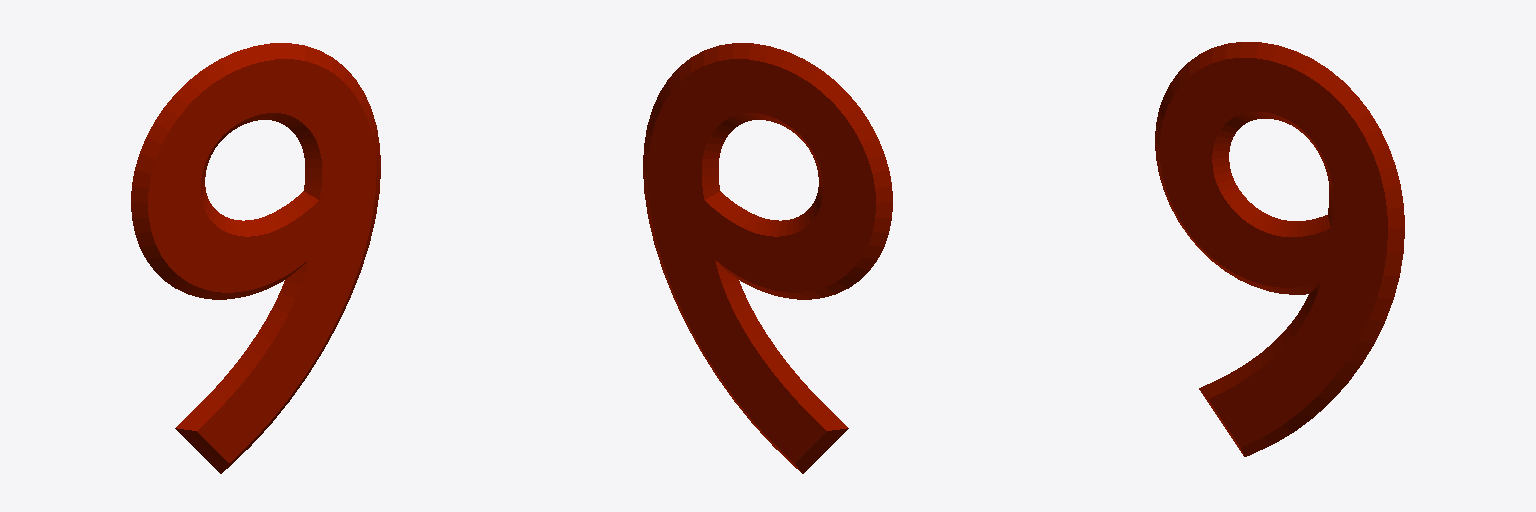
Rendered from nine.obj.
3 views of the same model, side by side, from view 1: azimuth 30°, elevation 25°; view 2: azimuth 150°, elevation 25°; view 3: azimuth 330°, elevation 25° (orthographic).
Parts seen in each view (by area): view 1: Text.009; view 2: Text.009; view 3: Text.009.
Boxes of the visible parts, box(x1,y1,x2,y2) form: Text.009: box(131, 43, 380, 473); Text.009: box(643, 43, 892, 473); Text.009: box(1155, 42, 1404, 456).
Size of the model in its own units: 0.0465 by 0.0747 by 0.004.